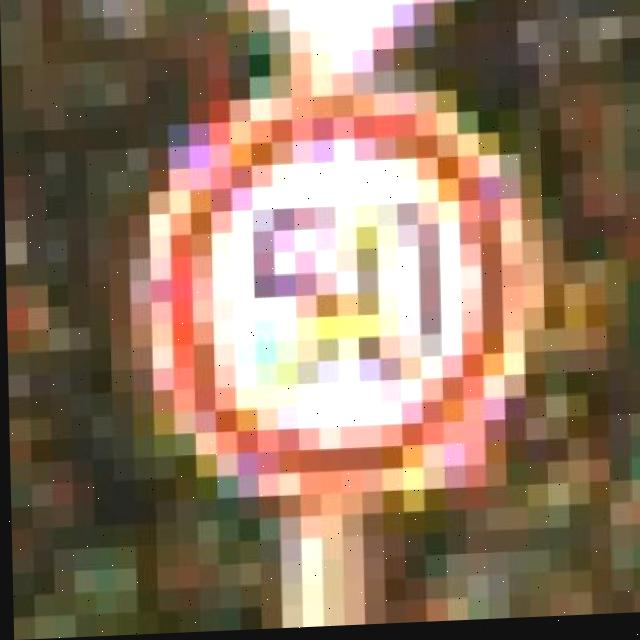Speed limit 50: (139, 1, 529, 514)
